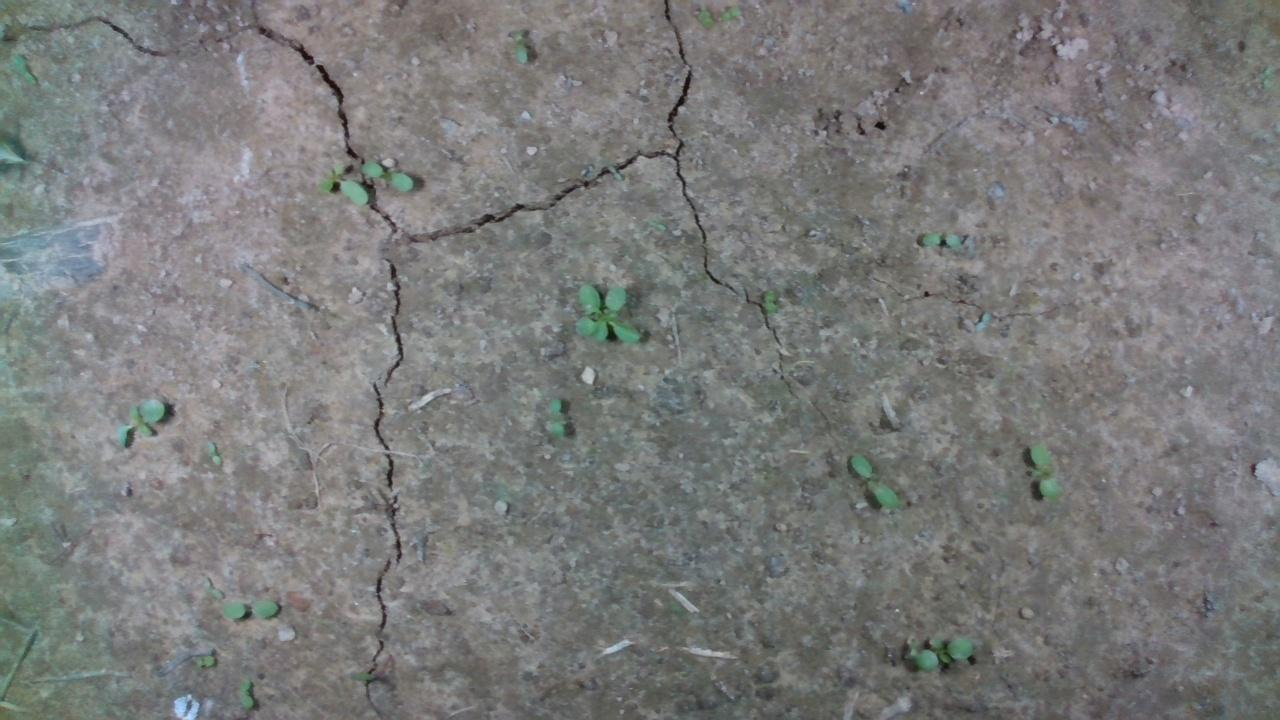weed: (844, 450, 910, 514), (112, 397, 165, 448), (1022, 443, 1063, 503), (359, 159, 413, 191), (221, 596, 280, 619), (543, 394, 571, 440), (505, 23, 538, 56), (202, 438, 234, 471), (910, 225, 967, 242), (199, 573, 229, 598), (236, 676, 255, 709), (761, 288, 780, 314)
